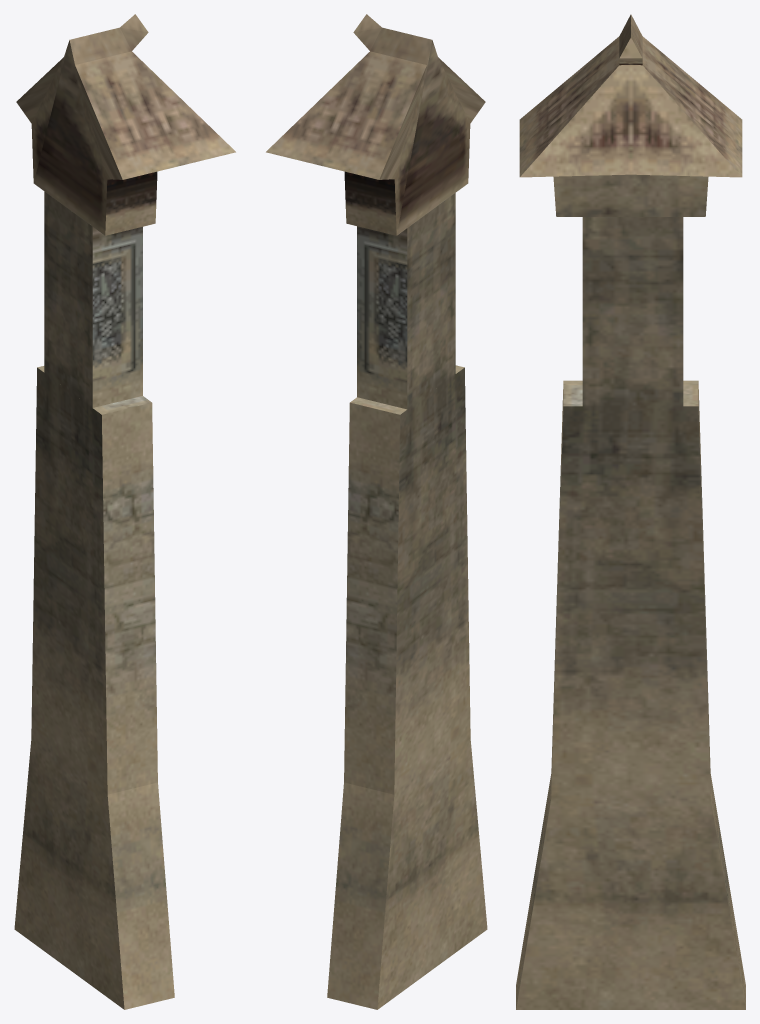
The model's file is desert-middledam-06_lod_01.fbx.
3 renders of one model, left to right at view 1: azimuth 30°, elevation 25°; view 2: azimuth 150°, elevation 25°; view 3: azimuth 270°, elevation 25°, orthographic. The views are drawn at different scales.
Visible parts, largest first — view 1: desert-middledam-02; view 2: desert-middledam-02; view 3: desert-middledam-02.
Part boxes in pixels (left/top/right/bottom): desert-middledam-02: left=14, top=14, right=235, bottom=1009; desert-middledam-02: left=266, top=14, right=487, bottom=1009; desert-middledam-02: left=516, top=14, right=745, bottom=1009.
Bounding box in the file's own units: 1.01 × 8.01 × 1.7.
